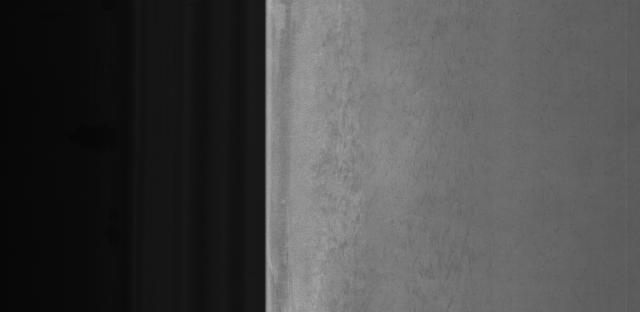silk_spot: (309, 51, 389, 273)
